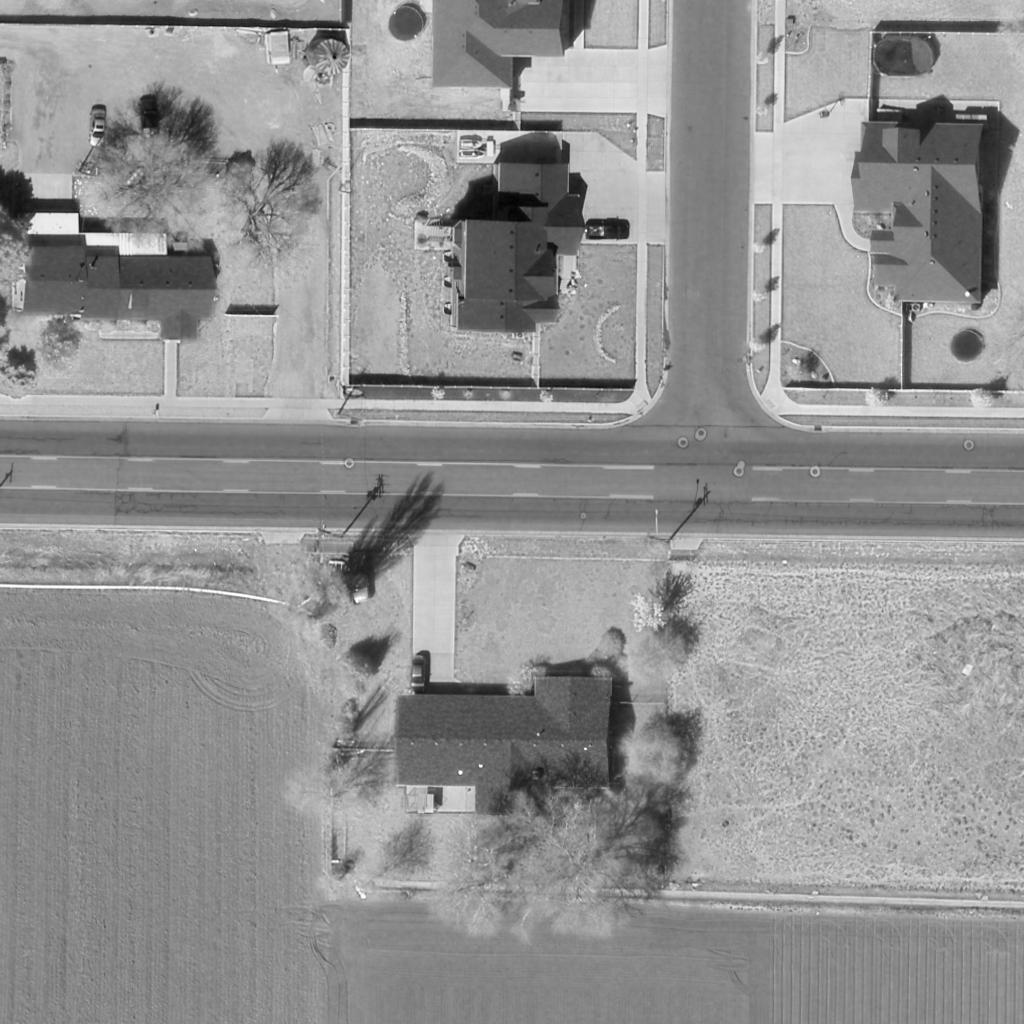vehicle: (348, 551, 372, 603), (139, 95, 161, 137), (585, 222, 631, 240), (90, 108, 106, 148), (413, 654, 427, 694)
